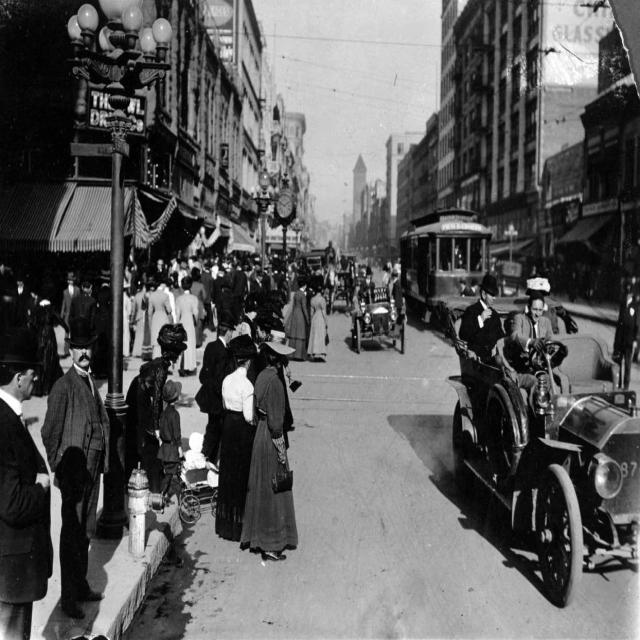body: (37, 314, 113, 624), (0, 323, 57, 639), (236, 329, 302, 564), (146, 233, 342, 304), (126, 321, 193, 502), (194, 307, 241, 482), (216, 339, 256, 544), (509, 294, 570, 424), (252, 328, 298, 436), (457, 273, 507, 368), (0, 259, 55, 323), (611, 279, 640, 391), (93, 263, 121, 378), (282, 273, 312, 363), (175, 274, 199, 374), (306, 279, 332, 363), (129, 272, 148, 358), (60, 270, 82, 343), (68, 274, 98, 326), (140, 277, 158, 362), (189, 266, 207, 347), (200, 260, 216, 333), (390, 268, 406, 341), (230, 264, 250, 317), (122, 276, 134, 359), (156, 270, 173, 318), (358, 265, 376, 306), (163, 278, 177, 324), (323, 238, 339, 274), (468, 240, 483, 271), (458, 276, 471, 298), (467, 277, 480, 297), (454, 243, 463, 269)
